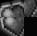heart: (0, 0, 24, 17)
sword: (24, 17, 37, 36)
